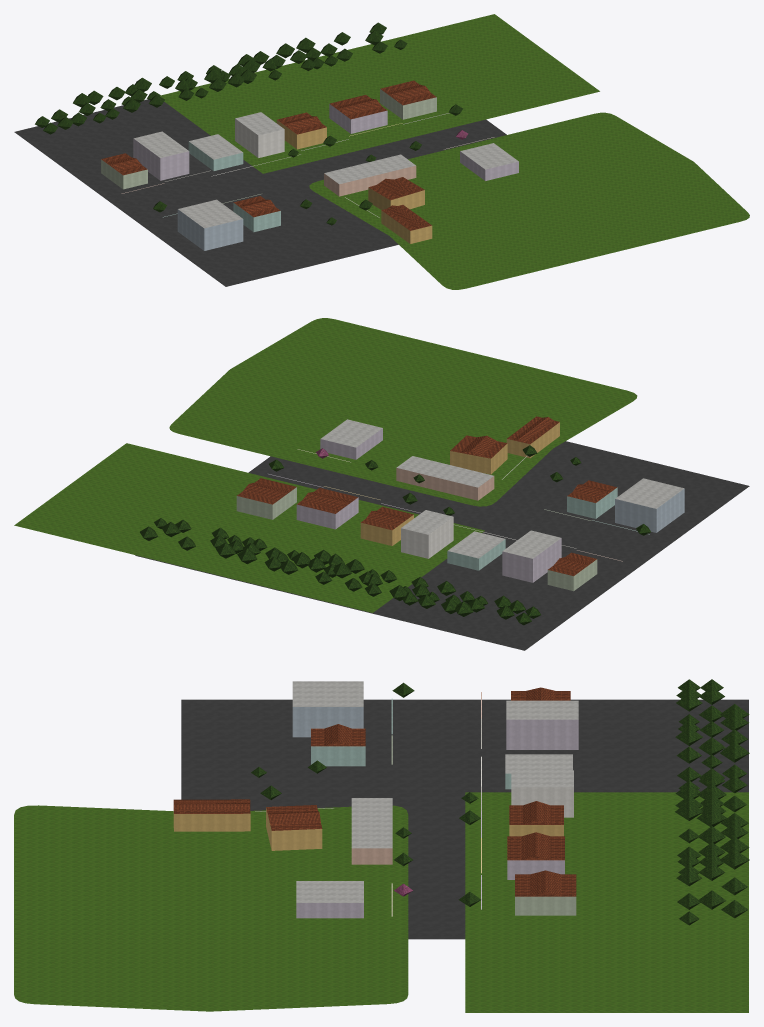
The model's file is cidade_S04_07_lod.gltf.
The picture shows the model from 3 angles, top to bottom: view 1: azimuth 30°, elevation 25°; view 2: azimuth 150°, elevation 25°; view 3: azimuth 270°, elevation 25°; orthographic projection. The views are drawn at different scales.
Parts seen in each view (by area): view 1: S04_07_Chao_LOD2, S04_07_Edificios_LOD1, S04_07_Vegetacao_LOD2, S04_07_Silhueta_LOD2; view 2: S04_07_Chao_LOD2, S04_07_Edificios_LOD1, S04_07_Vegetacao_LOD2, S04_07_Silhueta_LOD2; view 3: S04_07_Chao_LOD2, S04_07_Edificios_LOD1, S04_07_Vegetacao_LOD2, S04_07_Silhueta_LOD2.
Part boxes in pixels (x1=…): S04_07_Chao_LOD2: x1=14, y1=14, x2=749, y2=289; S04_07_Edificios_LOD1: x1=101, y1=84, x2=518, y2=250; S04_07_Vegetacao_LOD2: x1=35, y1=22, x2=468, y2=225; S04_07_Silhueta_LOD2: x1=101, y1=80, x2=436, y2=243; S04_07_Chao_LOD2: x1=14, y1=318, x2=749, y2=650; S04_07_Edificios_LOD1: x1=236, y1=417, x2=684, y2=590; S04_07_Vegetacao_LOD2: x1=140, y1=445, x2=650, y2=625; S04_07_Silhueta_LOD2: x1=236, y1=416, x2=617, y2=590; S04_07_Chao_LOD2: x1=14, y1=699, x2=748, y2=1012; S04_07_Edificios_LOD1: x1=173, y1=681, x2=578, y2=918; S04_07_Vegetacao_LOD2: x1=251, y1=679, x2=749, y2=925; S04_07_Silhueta_LOD2: x1=173, y1=691, x2=576, y2=915.
Size of the model in its own units: 131 by 7.46 by 130.
17 materials, 17 textured.
